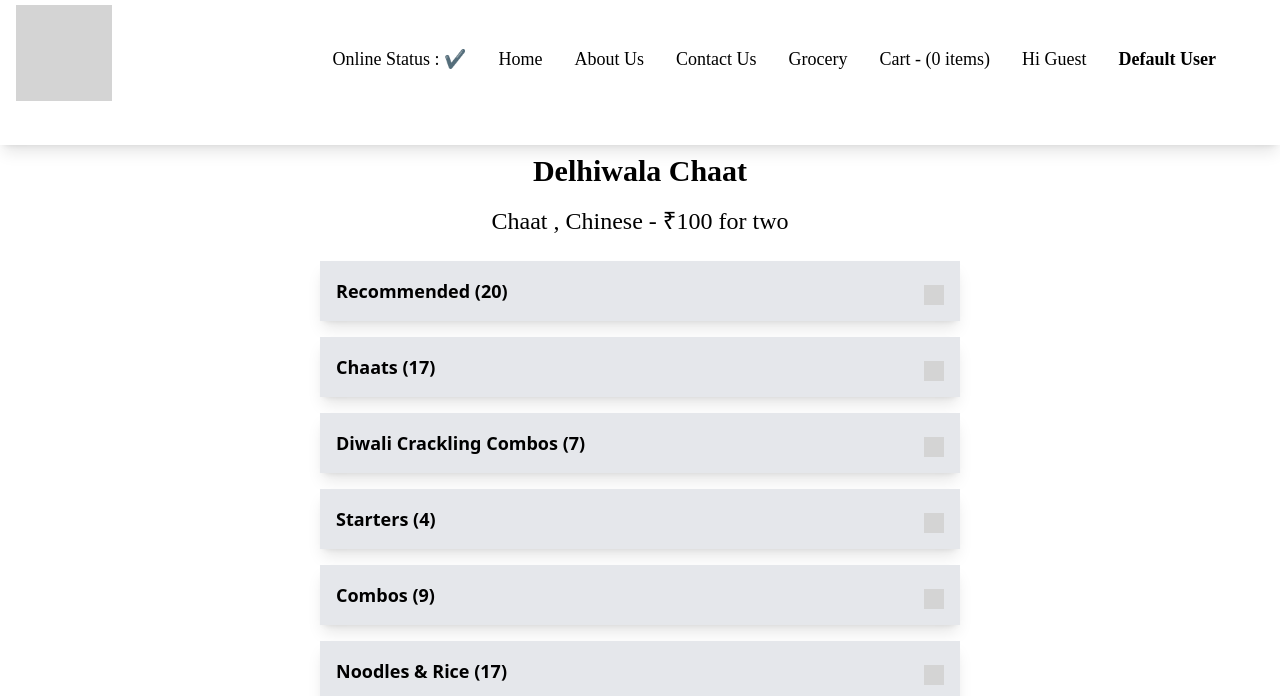
it: Should render Restaurant menu on UI
The width and height of the screenshot is (1280, 696).
Click the text "Chaats (17)" at (386, 367), box [336, 353, 435, 381]
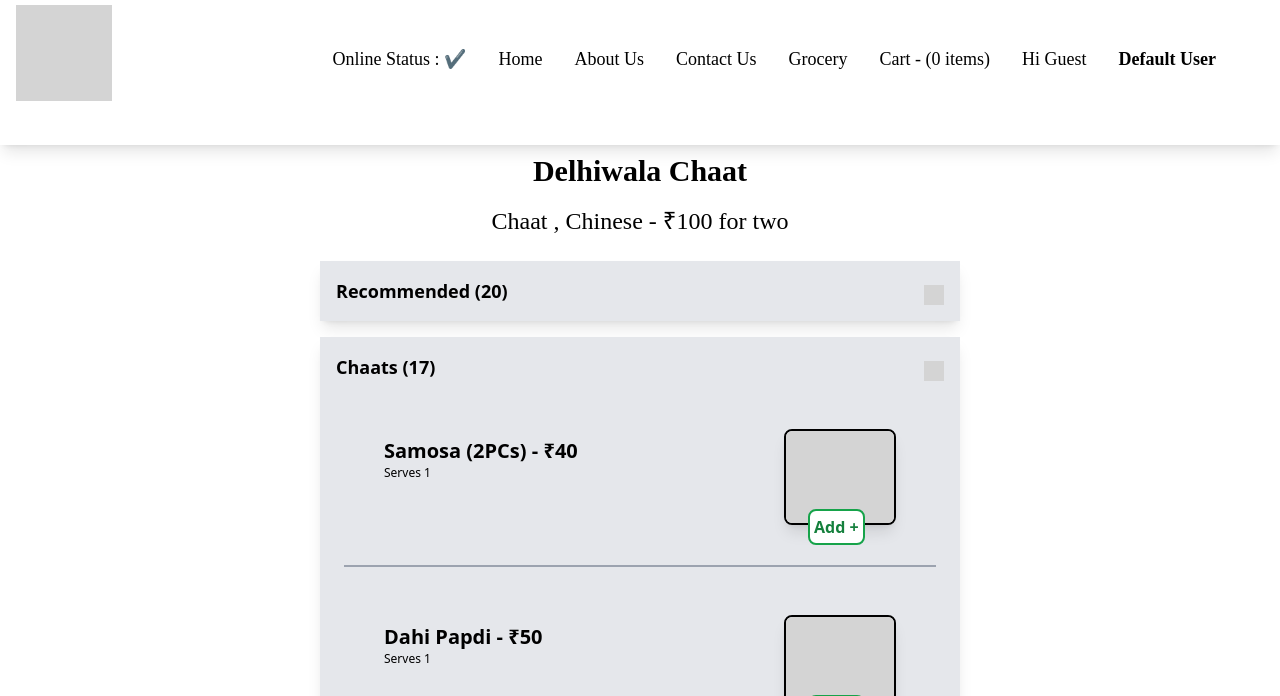
Expected: the link "Cart - (0 items)" is shown, [880, 49, 990, 69]
Now the number of elements with test id "foodItems" is 17
Click the 1st button "Add +" at (836, 527), box [808, 509, 865, 545]
(page scrolled)
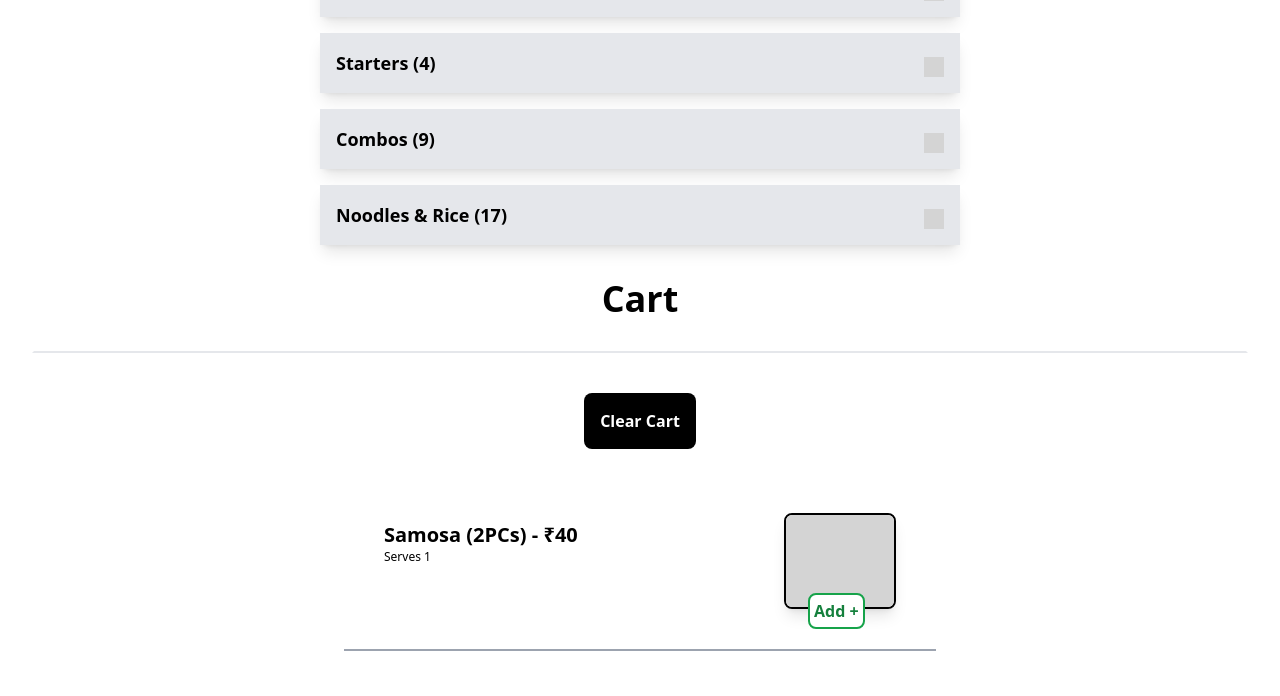
Click the button "Clear Cart" at (640, 421), box [584, 393, 696, 449]
(page scrolled)
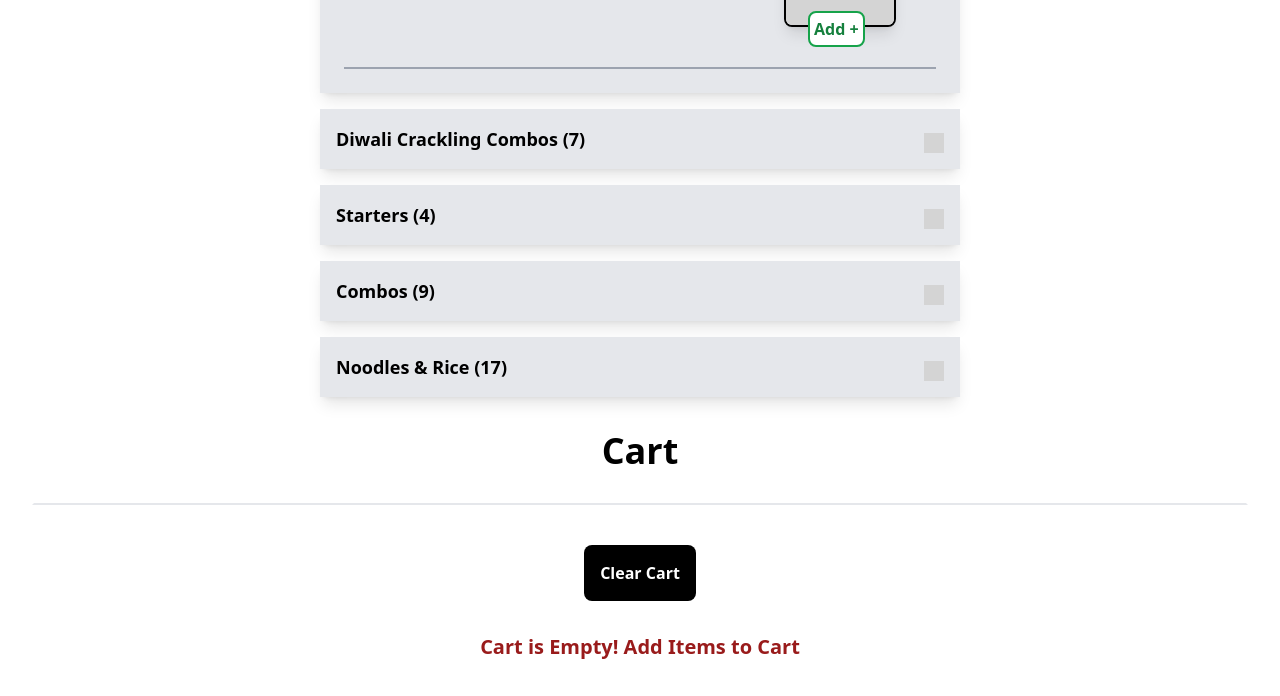
Now the text "Cart is Empty! Add Items to Cart" is shown, box [480, 633, 800, 660]
